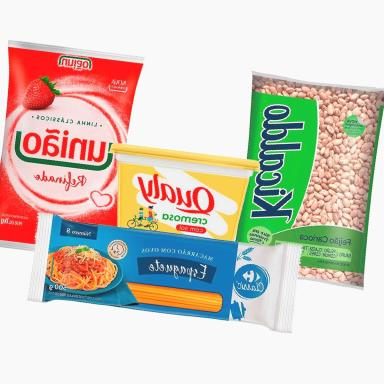beans package: (237, 73, 383, 286)
pasta package: (29, 214, 301, 331)
